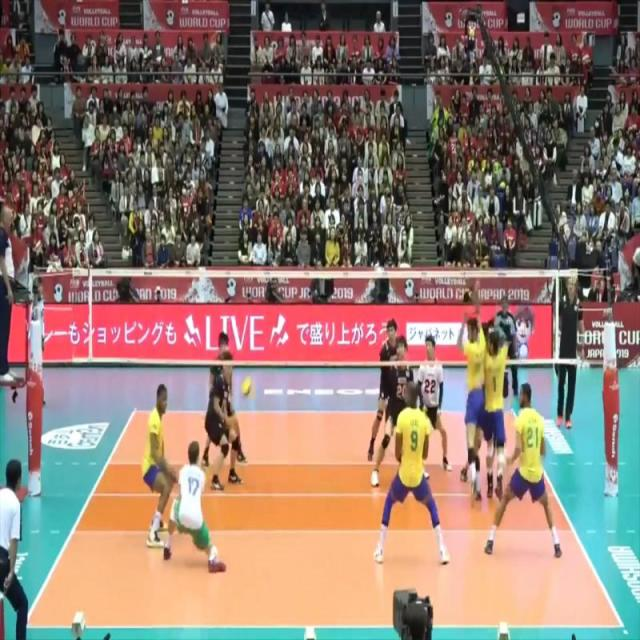volleyball: (238, 373, 256, 405)
